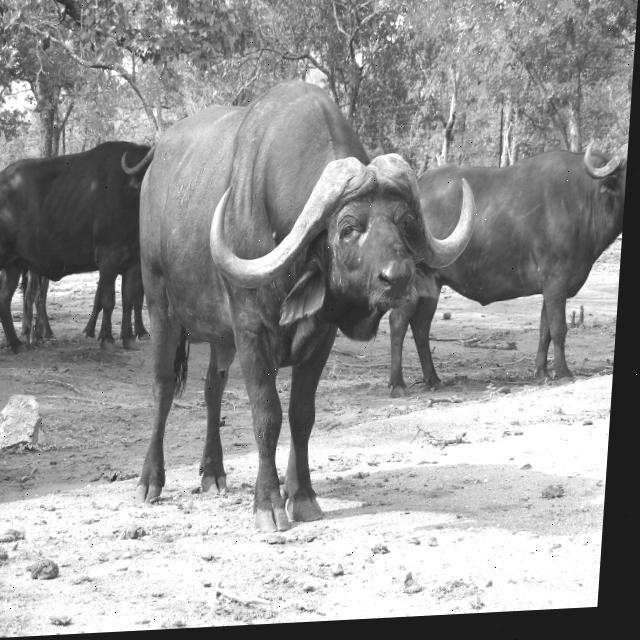Buffalo: (113, 68, 486, 539), (386, 138, 628, 400), (0, 137, 162, 356)
